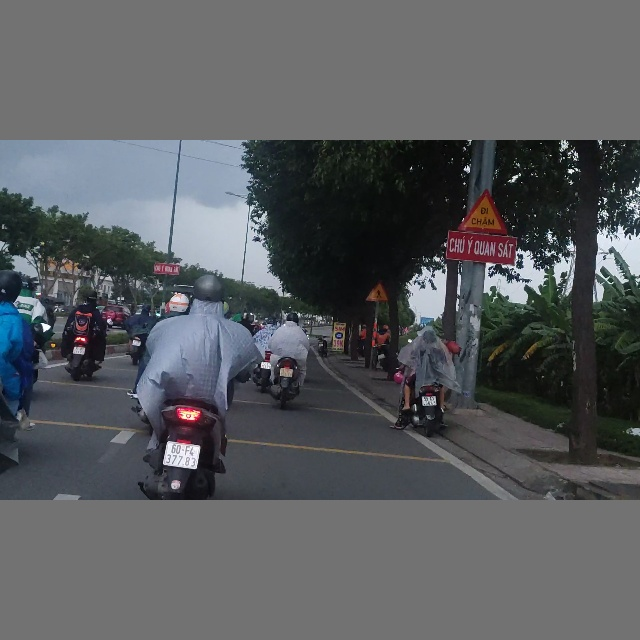W.224: (366, 281, 388, 302)
W.245a: (457, 188, 507, 233)
